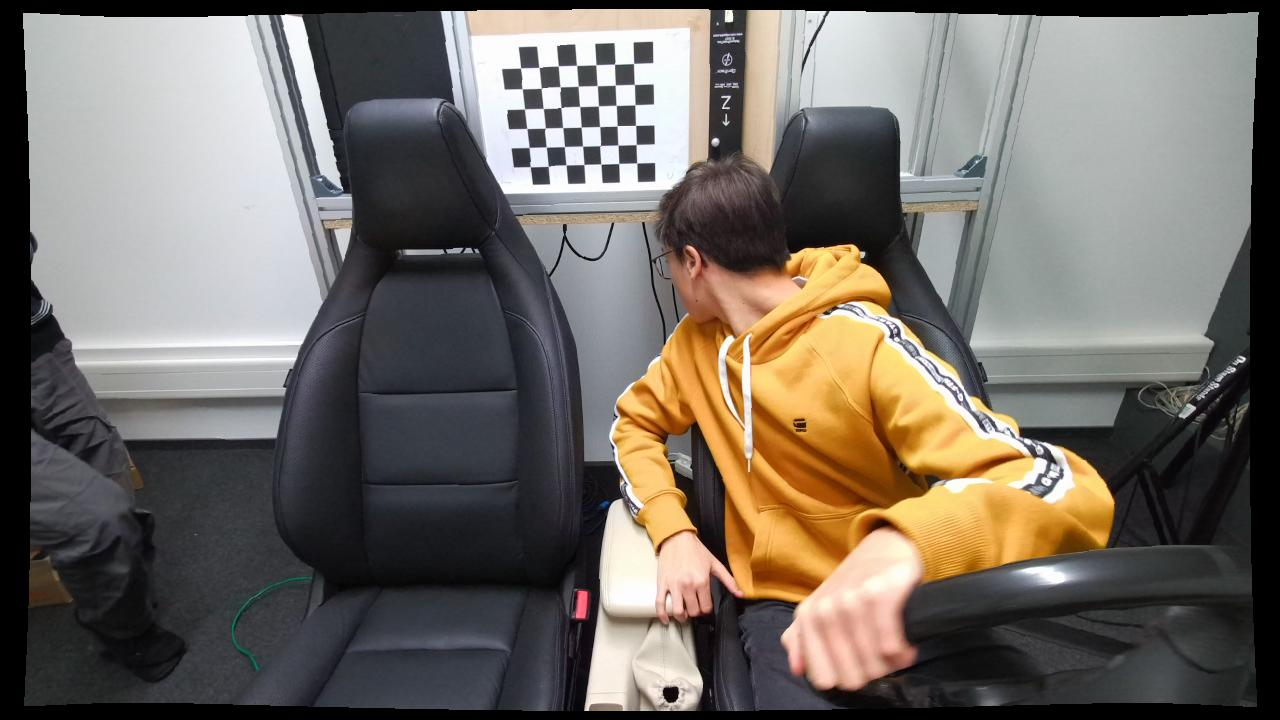Distracted: (603, 144, 983, 711)
